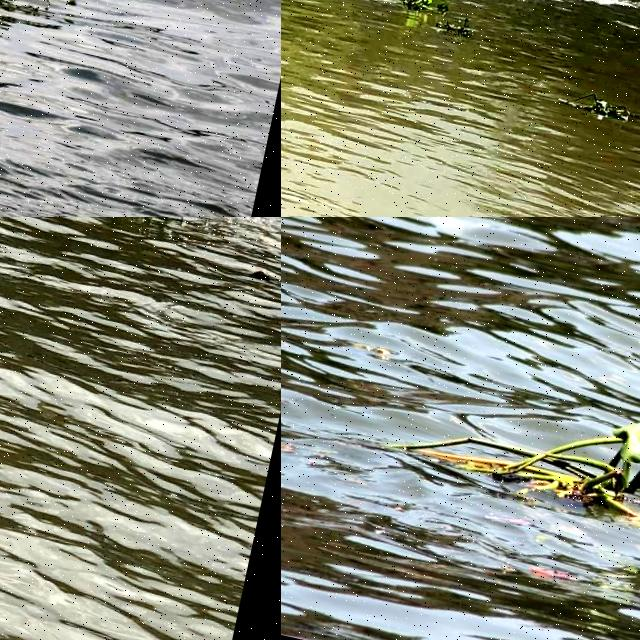water-hyacinth: (390, 363, 640, 541)
